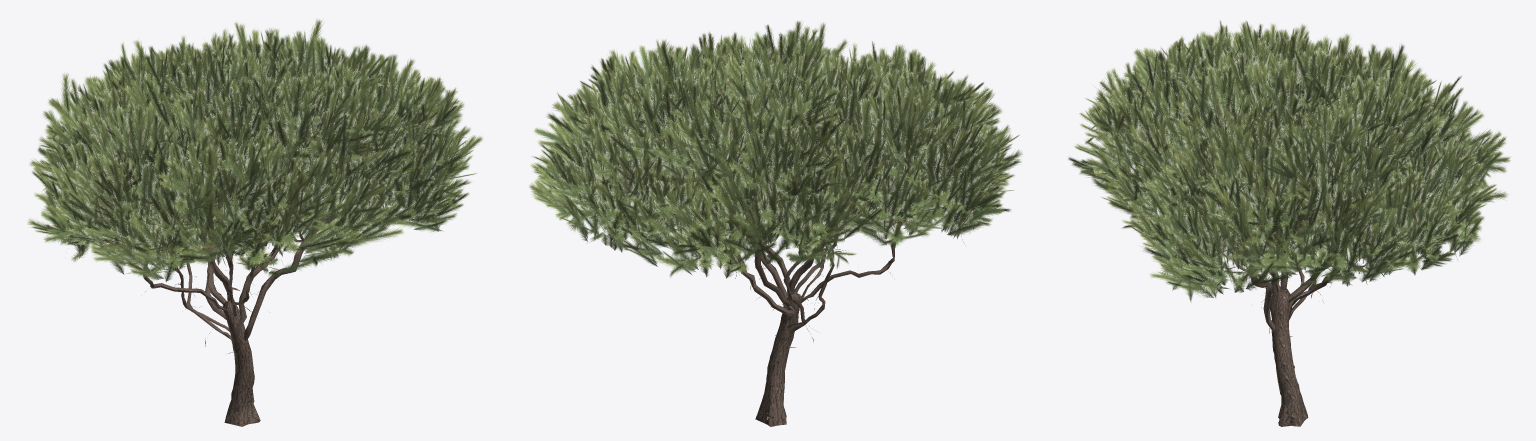
Rendered from tree_pine_hero_lite.glb.
The picture shows the model from 3 angles, left to right: view 1: azimuth 30°, elevation 25°; view 2: azimuth 150°, elevation 25°; view 3: azimuth 270°, elevation 25°; orthographic projection.
Visible parts, largest first — view 1: mx_tree_pine_hero, mx_tree_pine_hero.001; view 2: mx_tree_pine_hero, mx_tree_pine_hero.001; view 3: mx_tree_pine_hero, mx_tree_pine_hero.001.
Part boxes in pixels (x1,y1,x2,y2): mx_tree_pine_hero: (27,19,482,281); mx_tree_pine_hero.001: (56,64,412,426); mx_tree_pine_hero: (529,21,1022,278); mx_tree_pine_hero.001: (612,77,963,426); mx_tree_pine_hero: (1068,20,1510,302); mx_tree_pine_hero.001: (1153,76,1457,426).
Bounding box in the file's own units: 18.57 × 14.81 × 16.53.
2 materials, 2 textured.
